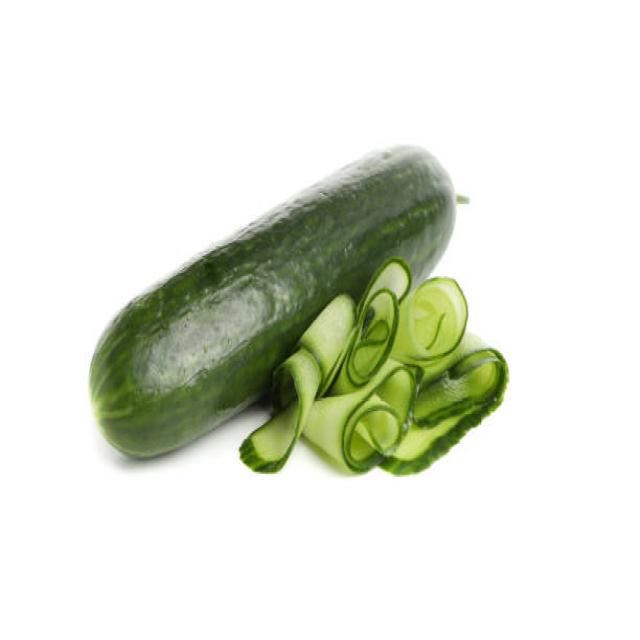cucumber: (87, 142, 457, 459)
